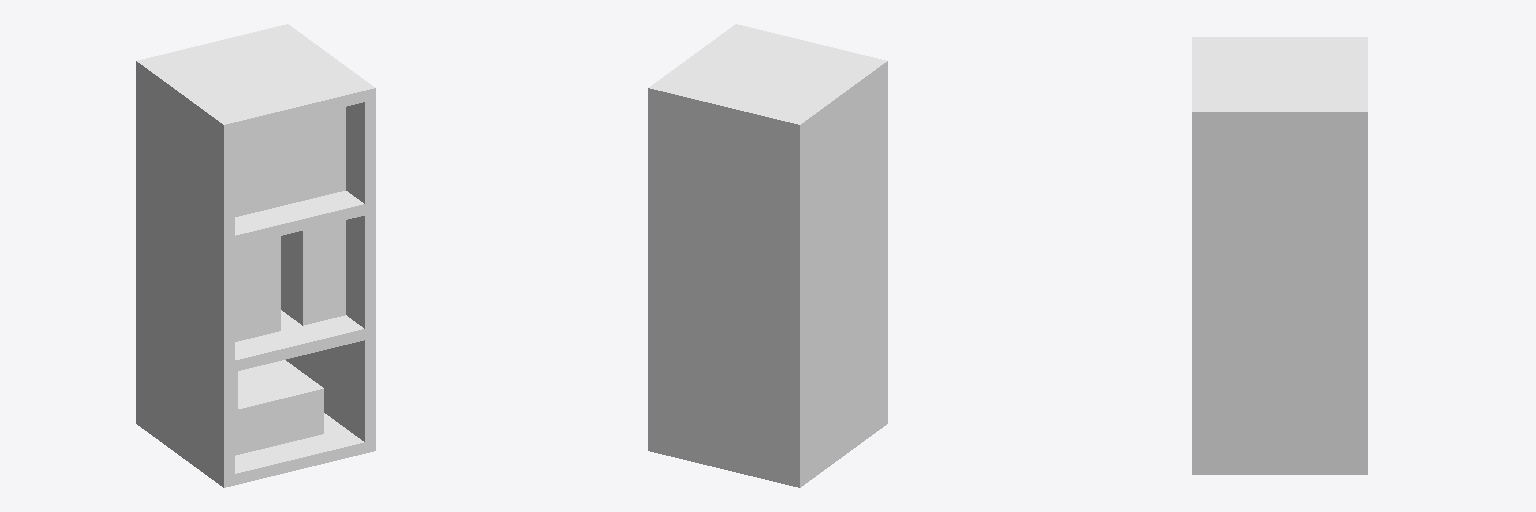
Rendered from Bookshelf.obj.
3 views of the same model, side by side, from view 1: azimuth 30°, elevation 25°; view 2: azimuth 150°, elevation 25°; view 3: azimuth 270°, elevation 25° (orthographic).
Parts seen in each view (by area): view 1: object 1; view 2: object 1; view 3: object 1.
Boxes of the visible parts, box(x1,y1,x2,y2) form: object 1: box(136, 24, 375, 487); object 1: box(648, 24, 887, 487); object 1: box(1192, 37, 1367, 474).
Bounding box in the file's own units: 1.4 × 3.2 × 1.4.